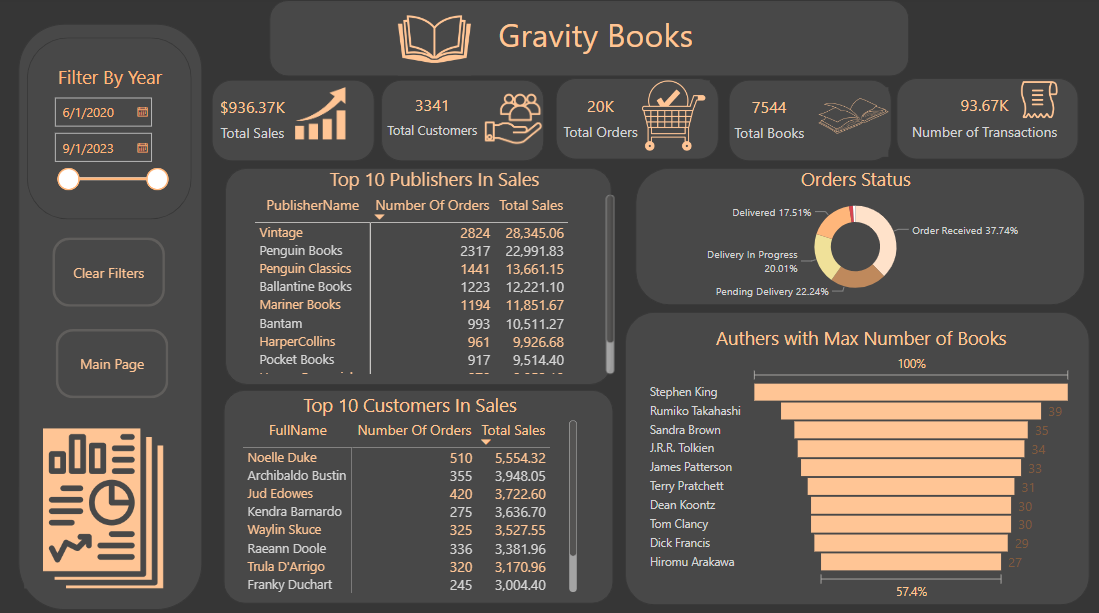

The page's visual inventory and layout, read from the dashboard file:
{"tool":"powerbi","page":{"name":"Details","canvas":[1280,720],"ordinal":1},"visuals":[{"type":"actionButton","box":[0,0,100,40],"z":0},{"type":"shape","box":[844,90,416,212],"z":0,"group":"g5"},{"type":"shape","box":[424,98,402,300],"z":0,"group":"g4"},{"type":"group","id":"g1","title":"Group 1","box":[846,304,418,398],"z":0,"group":"g2"},{"type":"shape","box":[846,304,418,398],"z":0,"group":"g1"},{"type":"shape","box":[424,406,410,296],"z":0,"group":"g3"},{"type":"group","id":"g2","title":"Group Details","box":[424,90,840,612],"z":1000},{"type":"donutChart","title":"Orders Status","fields":{"Y":["CountNonNull(FactOrder.BK_OrderID)"],"Category":["DimStatusHistory.StatusValue"]},"box":[838,92,420,212],"z":1000,"group":"g5"},{"type":"pivotTable","title":"Top 10 Publishers In Sales","fields":{"Values":["CountNonNull(FactSales.BK_OrderID)","Sum(FactSales.MeasurePrice)"],"Rows":["DimBook.PublisherName"]},"box":[432.2,98,387.6,290],"z":1000,"group":"g4"},{"type":"funnel","title":"Authers with Max Number of Books","fields":{"Category":["DimAutherName.AutherName"],"Y":["Count(DimAutherBook.BK_BookID)"]},"box":[864,323.5,388,378.5],"z":1000,"group":"g1"},{"type":"group","id":"g3","title":"Group 2","box":[424,406,410,296],"z":1000,"group":"g2"},{"type":"pivotTable","title":"Top 10 Customers In Sales","fields":{"Rows":["DimCustomer.FullName"],"Values":["CountNonNull(FactSales.BK_OrderID)","Sum(FactSales.MeasurePrice)"]},"box":[436,407.3,382,286],"z":1000,"group":"g3"},{"type":"group","id":"g4","title":"Group 2","box":[424,98,402,300],"z":2000,"group":"g2"},{"type":"group","id":"g5","title":"Group 6","box":[838,90,422,214],"z":3000,"group":"g2"}]}

Visuals, with their boxes in screenshot pixels (x1, y1, x2, y2), scaled from the page's 1280x720 canvas onto the 1099x613 screenshot:
actionButton: locate(0, 0, 86, 34)
shape: locate(725, 77, 1082, 257)
shape: locate(364, 83, 709, 339)
"Group 1" group: locate(726, 259, 1085, 598)
shape: locate(726, 259, 1085, 598)
shape: locate(364, 346, 716, 598)
"Group Details" group: locate(364, 77, 1085, 598)
"Orders Status" donutChart: locate(720, 78, 1080, 259)
"Top 10 Publishers In Sales" pivotTable: locate(371, 83, 704, 330)
"Authers with Max Number of Books" funnel: locate(742, 275, 1075, 598)
"Group 2" group: locate(364, 346, 716, 598)
"Top 10 Customers In Sales" pivotTable: locate(374, 347, 702, 590)
"Group 2" group: locate(364, 83, 709, 339)
"Group 6" group: locate(720, 77, 1082, 259)
